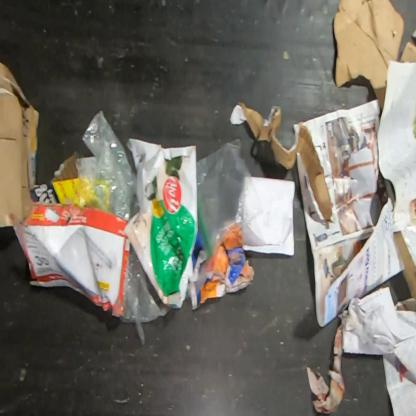cardboard: (10, 204, 131, 318), (229, 102, 334, 226), (333, 0, 415, 113), (0, 60, 40, 229), (30, 151, 86, 204), (393, 230, 415, 301)
soft_plastic: (123, 137, 198, 310), (197, 137, 266, 264), (64, 110, 139, 221), (119, 244, 173, 346)
